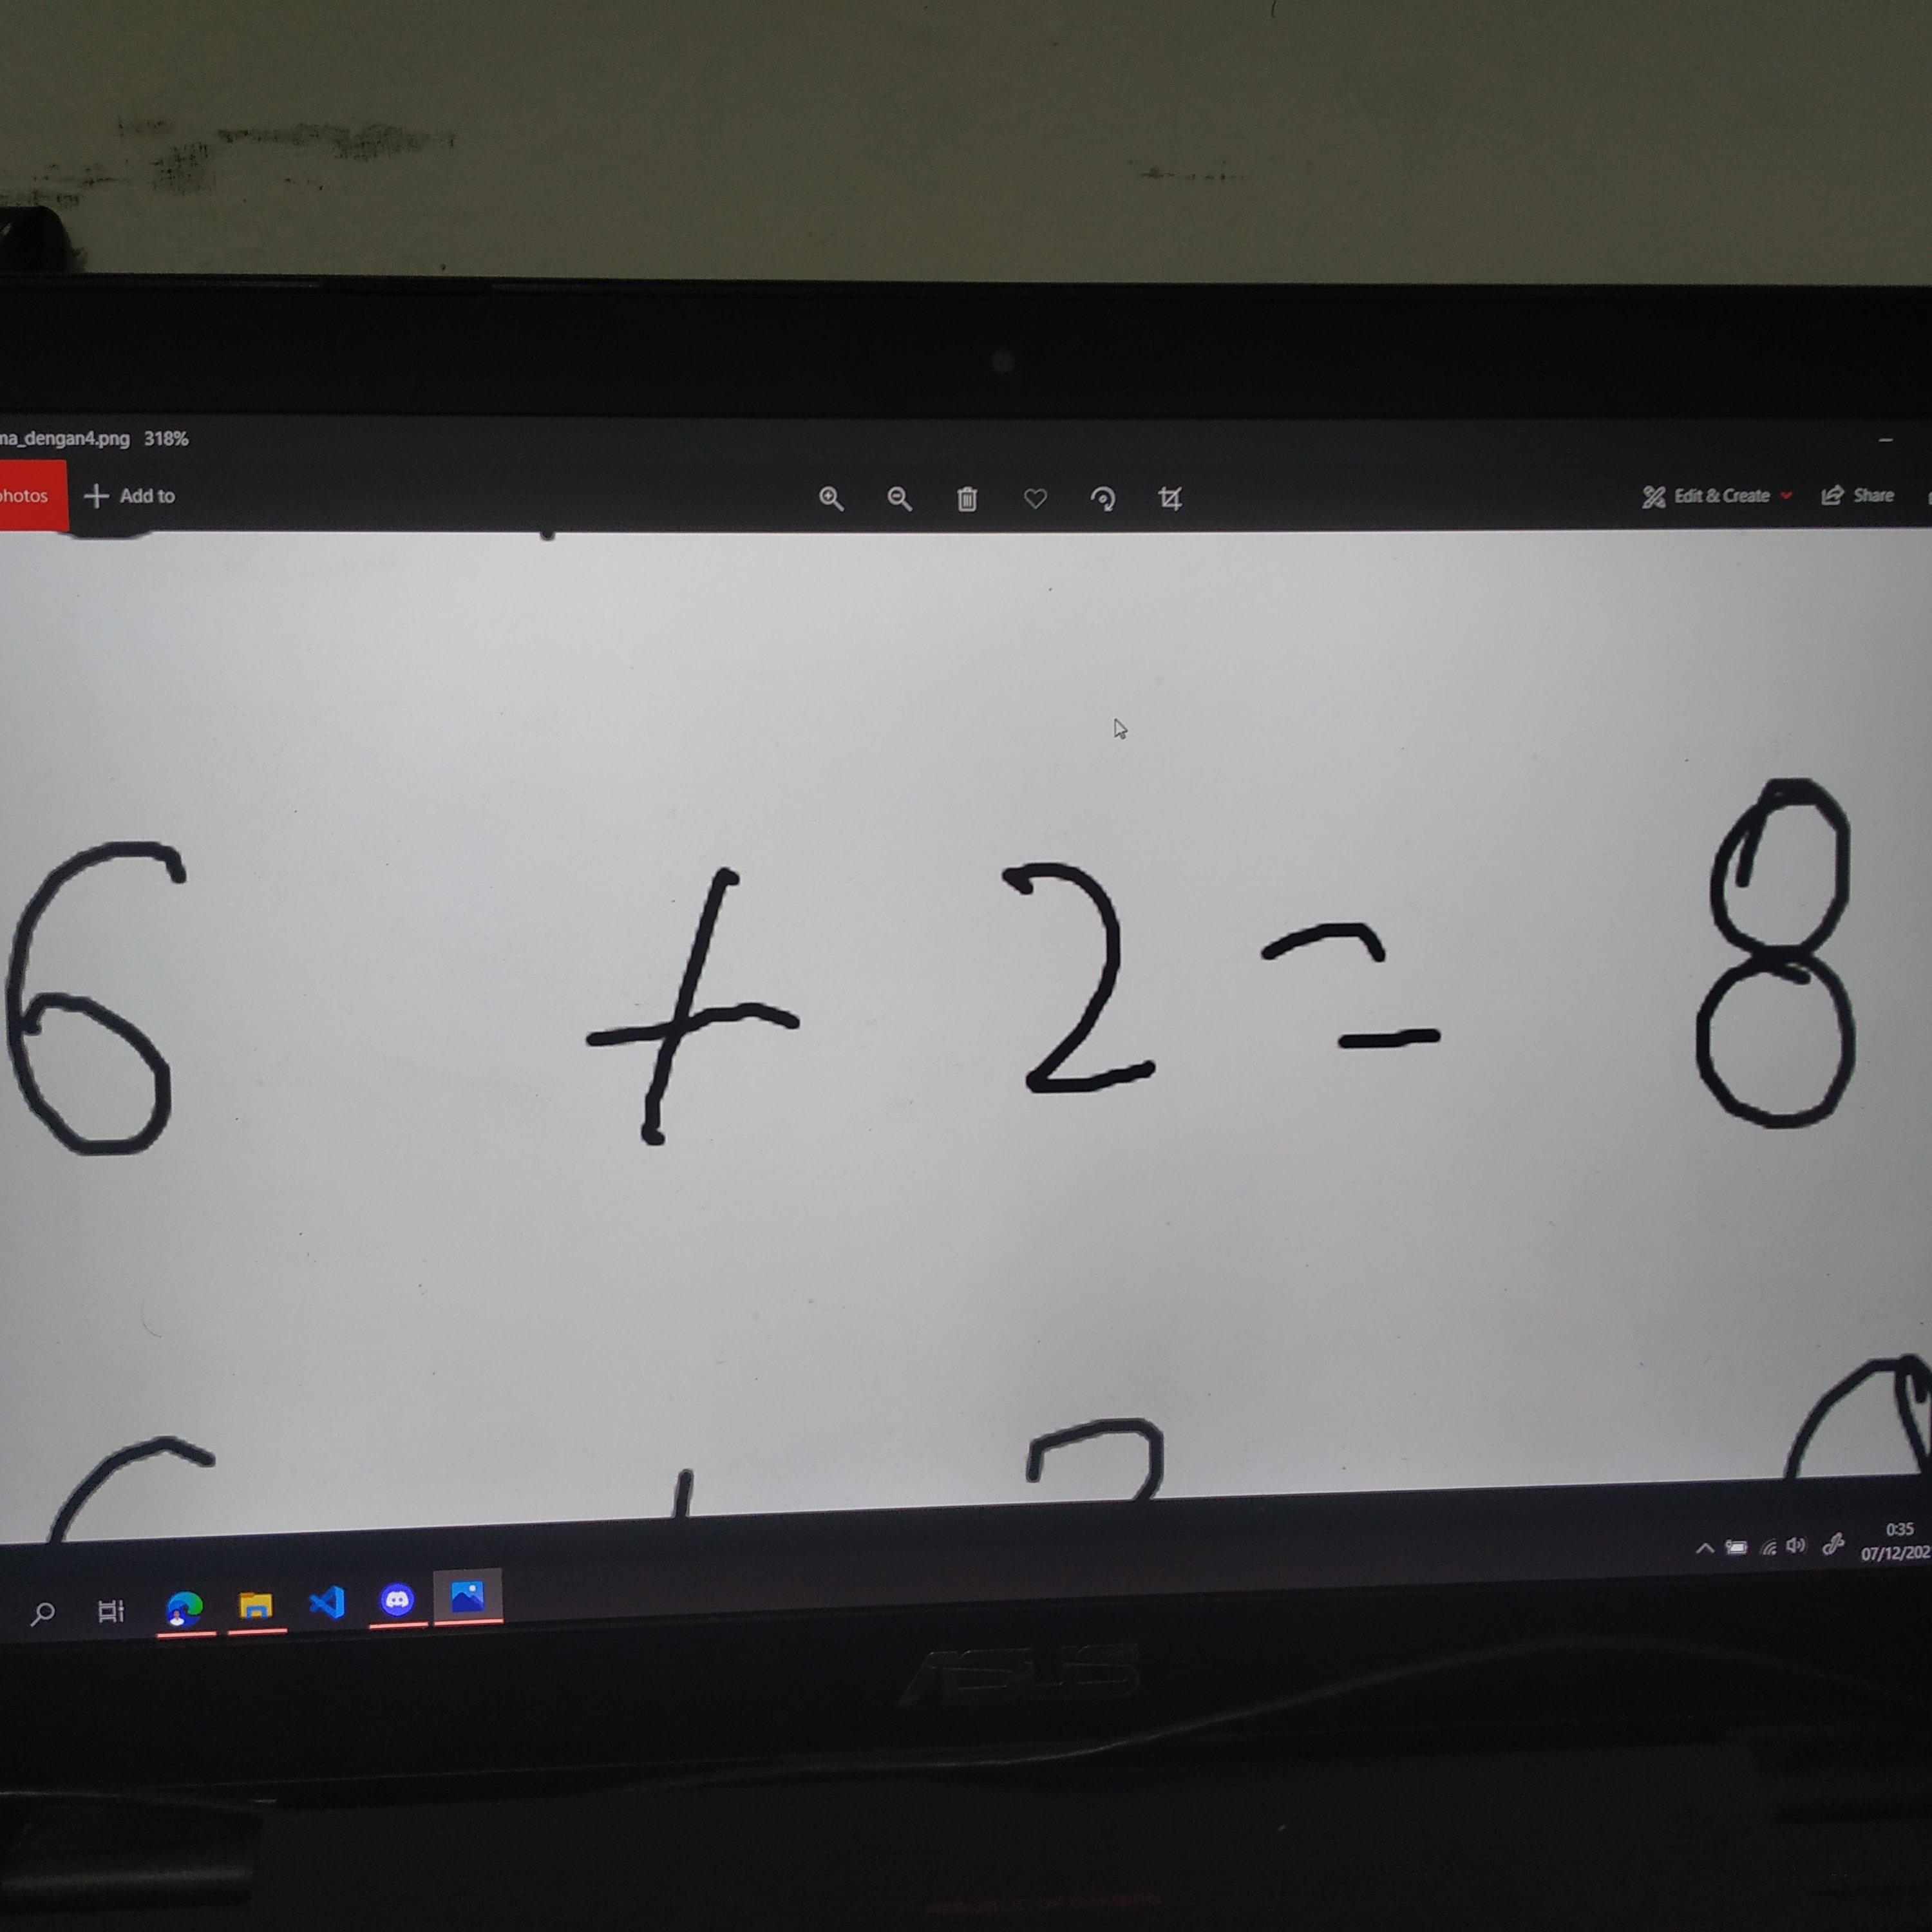equal: (1251, 912, 1469, 1068)
num2: (958, 839, 1224, 1122)
num6: (1, 829, 241, 1184)
num8: (1667, 750, 1895, 1149)
sum: (572, 860, 828, 1151)
